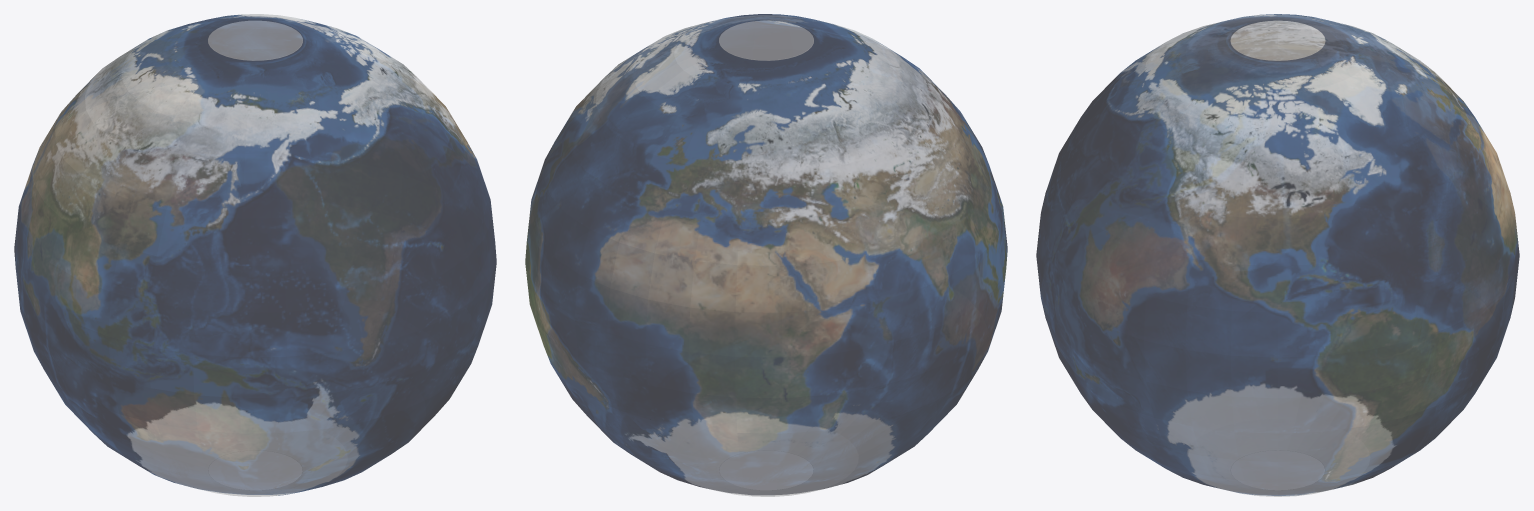
File: earthobj.obj
The picture shows the model from 3 angles, left to right: view 1: azimuth 30°, elevation 25°; view 2: azimuth 150°, elevation 25°; view 3: azimuth 270°, elevation 25°; orthographic projection.
Visible parts, largest first — view 1: Sphere; view 2: Sphere; view 3: Sphere.
Boxes of the visible parts, x1=… form: Sphere: x1=14, y1=14, x2=496, y2=496; Sphere: x1=525, y1=14, x2=1007, y2=496; Sphere: x1=1036, y1=14, x2=1519, y2=496.
Bounding box in the file's own units: 25 × 24.52 × 25.
1 material, 1 textured.
